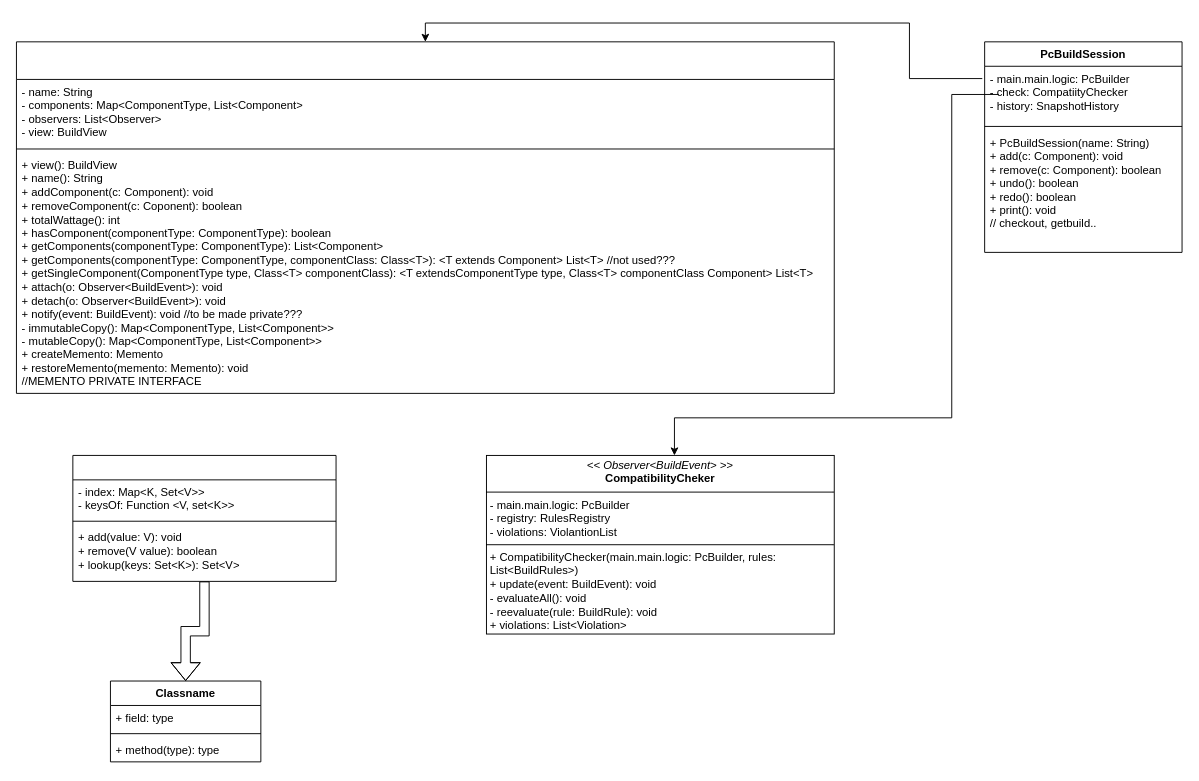
Image size: 1199x781. Some labels were removed from this diagram. Here are the shapes that lost their labels. From the top down, the box of each, then its label:
(16, 41, 834, 393): << Subject<BuildEvent>, Originator<Memento> >> PcBuilder
(72, 454, 336, 581): InvertedIndexMap<K exteds Enum<K>, V>
